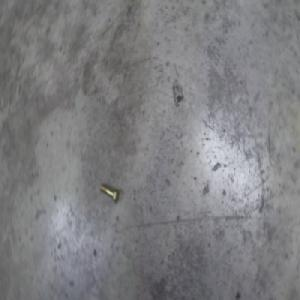Bolt: (100, 178, 120, 202)
